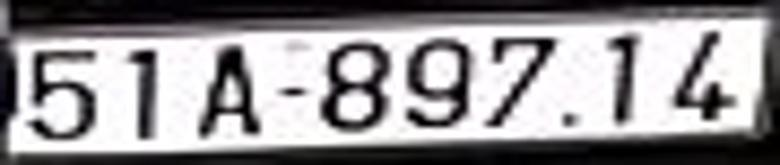-: (279, 85, 307, 98)
.: (561, 109, 577, 130)
1: (604, 30, 638, 126), (126, 47, 160, 142)
4: (672, 30, 740, 124)
5: (27, 47, 99, 143)
7: (485, 36, 559, 133)
8: (321, 40, 393, 133)
9: (406, 35, 470, 130)
A: (197, 45, 263, 138)
